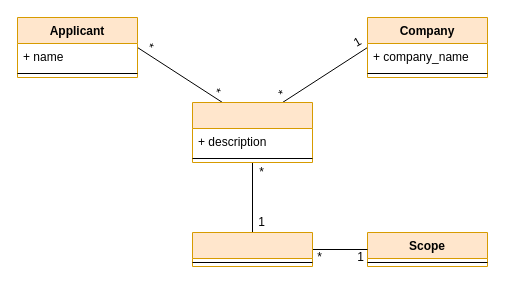
The diagram is 505 pixels wide and 285 high, and some of its shapes have lost their labels. Each missing label, with the box of its shape:
Job Offer: (192, 102, 312, 162)
Theme: (192, 232, 312, 266)
